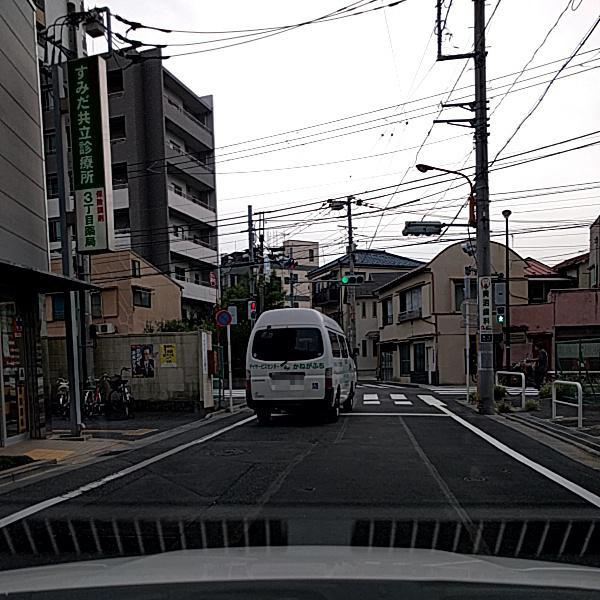D50: (206, 439, 258, 460)
